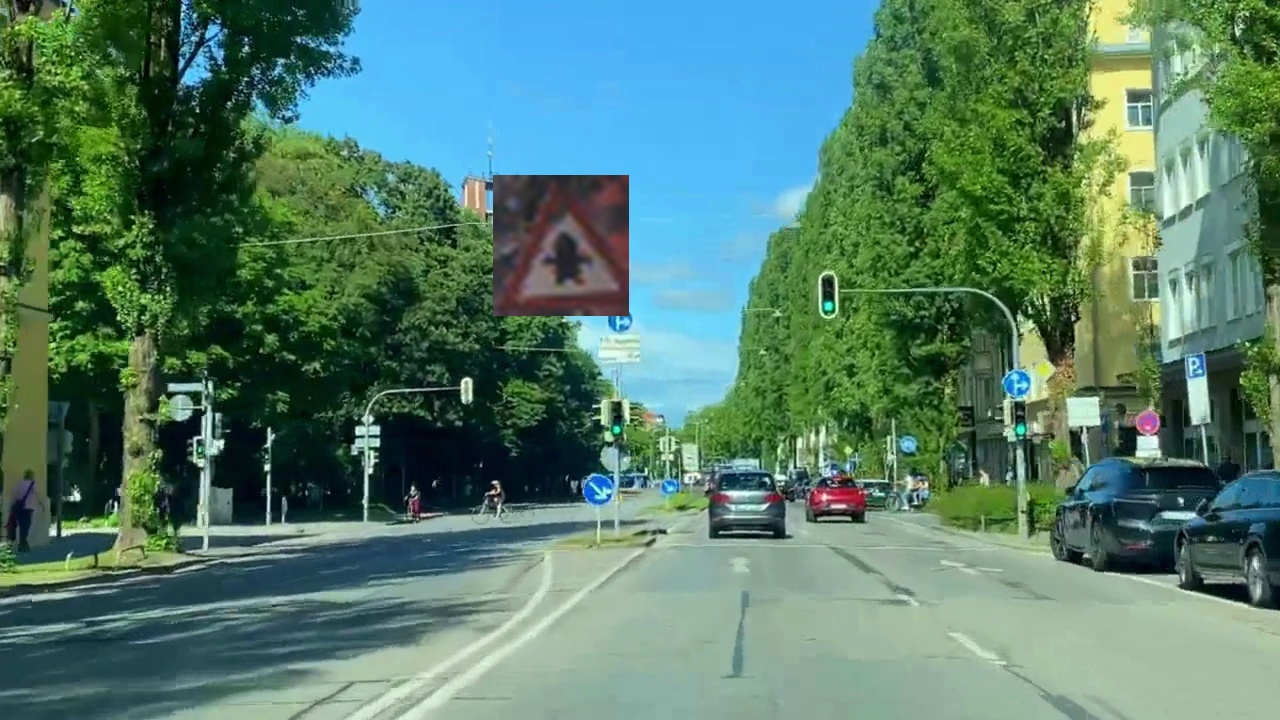Right-of-way: (493, 175, 629, 316)
